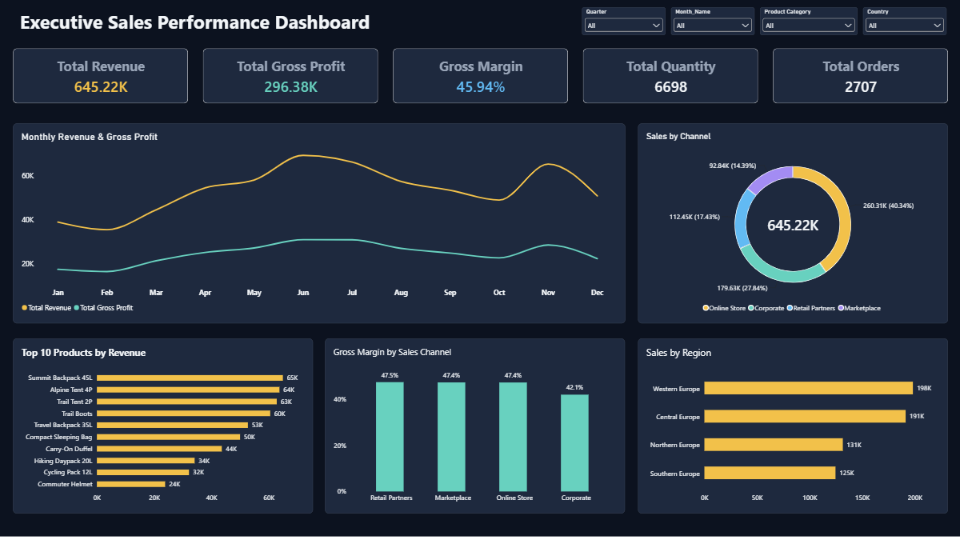

The page's visual inventory and layout, read from the dashboard file:
{"tool":"powerbi","page":{"name":"Page 1","canvas":[1920,1080],"ordinal":0},"visuals":[{"type":"textbox","box":[40,20,800,50],"z":1000},{"type":"cardVisual","fields":{"Data":["All_Measures.Total Gross Profit"]},"box":[405,100,350,110],"z":1000,"group":"g1"},{"type":"group","id":"g1","title":"Group 1","box":[25,100,1870,110],"z":2000},{"type":"cardVisual","fields":{"Data":["All_Measures.Gross Margin"]},"box":[785,100,350,110],"z":2000,"group":"g1"},{"type":"cardVisual","fields":{"Data":["All_Measures.Total Orders"]},"box":[1545,100,350,110],"z":3000,"group":"g1"},{"type":"lineChart","title":"Monthly Revenue & Gross Profit","fields":{"Category":["Date_Table.Month_Name"],"Y":["All_Measures.Total Revenue","All_Measures.Total Gross Profit"]},"box":[25,250,1225,400],"z":3000},{"type":"cardVisual","fields":{"Data":["All_Measures.Total Quantity"]},"box":[1165,100,350,110],"z":4000,"group":"g1"},{"type":"donutChart","title":"Sales by Channel","fields":{"Category":["Sales_Data.Sales Channel"],"Y":["All_Measures.Total Revenue"]},"box":[1276,250,620,400],"z":4000},{"type":"cardVisual","fields":{"Data":["All_Measures.Total Revenue"]},"box":[25,100,350,110],"z":5000,"group":"g1"},{"type":"clusteredBarChart","title":"Top 10 Products by Revenue","fields":{"Category":["Sales_Data.Product"],"Y":["All_Measures.Total Revenue"]},"box":[25,680,600,350],"z":5000},{"type":"clusteredColumnChart","title":"Gross Margin by Sales Channel","fields":{"Y":["All_Measures.Gross Margin"],"Category":["Sales_Data.Sales Channel"]},"box":[650.5,680,600,350],"z":6000},{"type":"clusteredBarChart","title":"Sales by Region","fields":{"Category":["Sales_Data.Region"],"Y":["All_Measures.Total Revenue"]},"box":[1276,680,620,350],"z":7000},{"type":"slicer","fields":{"Values":["Date_Table.Quarter"]},"box":[1164.7,18.3,167.2,55],"z":8000,"group":"g2"},{"type":"slicer","fields":{"Values":["Date_Table.Month_Name"]},"box":[1343.1,18.3,167.2,55],"z":9000,"group":"g2"},{"type":"slicer","fields":{"Values":["Sales_Data.Country"]},"box":[1727.7,18.3,167.2,55],"z":10000,"group":"g2"},{"type":"slicer","fields":{"Values":["Sales_Data.Product Category"]},"box":[1521.5,18.3,195,55],"z":11000,"group":"g2"},{"type":"group","id":"g2","title":"Group 2","box":[1164.7,18.3,730.2,55],"z":11001}]}

Visuals, with their boxes in screenshot pixels (x1, y1, x2, y2), scaled from the page's 1920x1080 canvas onto the 960x537 screenshot:
textbox: <box>20,10,420,35</box>
cardVisual - All_Measures.Total Gross Profit: <box>202,50,378,104</box>
"Group 1" group: <box>12,50,948,104</box>
cardVisual - All_Measures.Gross Margin: <box>392,50,568,104</box>
cardVisual - All_Measures.Total Orders: <box>772,50,948,104</box>
"Monthly Revenue & Gross Profit" lineChart: <box>12,124,625,323</box>
cardVisual - All_Measures.Total Quantity: <box>582,50,758,104</box>
"Sales by Channel" donutChart: <box>638,124,948,323</box>
cardVisual - All_Measures.Total Revenue: <box>12,50,188,104</box>
"Top 10 Products by Revenue" clusteredBarChart: <box>12,338,312,512</box>
"Gross Margin by Sales Channel" clusteredColumnChart: <box>325,338,625,512</box>
"Sales by Region" clusteredBarChart: <box>638,338,948,512</box>
slicer - Date_Table.Quarter: <box>582,9,666,36</box>
slicer - Date_Table.Month_Name: <box>672,9,755,36</box>
slicer - Sales_Data.Country: <box>864,9,947,36</box>
slicer - Sales_Data.Product Category: <box>761,9,858,36</box>
"Group 2" group: <box>582,9,947,36</box>
